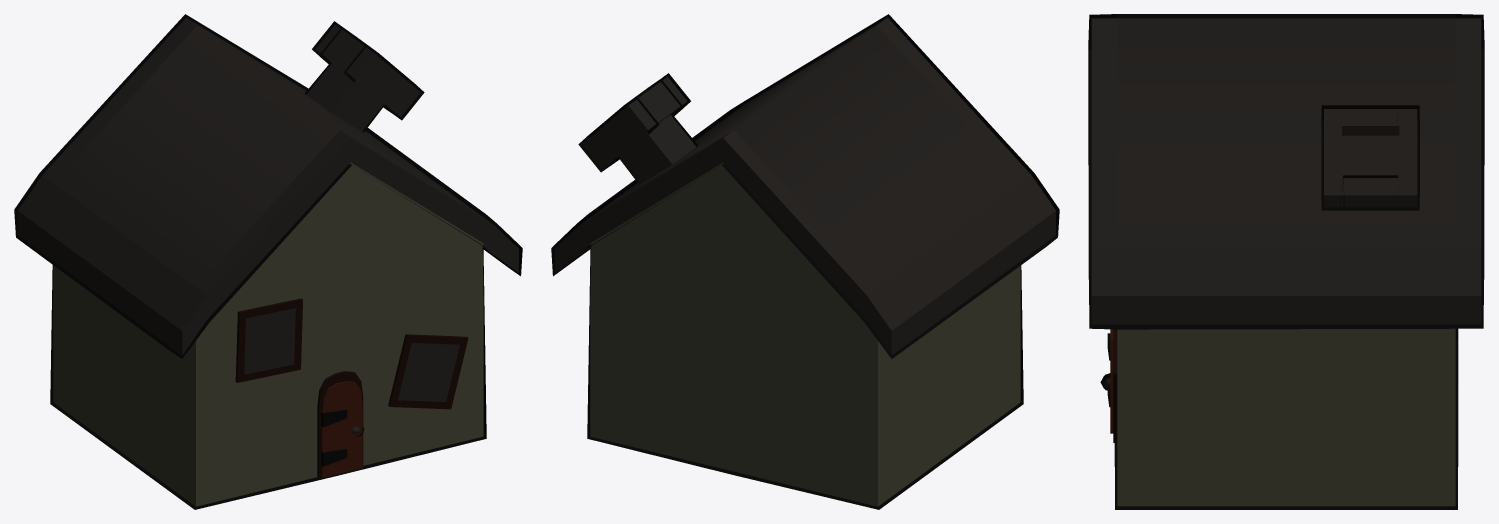
Rendered from House 2.FBX.
3 renders of one model, left to right at view 1: azimuth 30°, elevation 25°; view 2: azimuth 150°, elevation 25°; view 3: azimuth 270°, elevation 25°, orthographic. The views are drawn at different scales.
Parts seen in each view (by area): view 1: House 2; view 2: House 2; view 3: House 2.
Part boxes in pixels (x1,y1,x2,y2): House 2: (14,14,522,509); House 2: (551,14,1059,509); House 2: (1088,14,1484,509).
Bounding box in the file's own units: 22.07 × 21.34 × 18.62.
